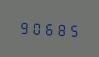eight: (54, 20, 65, 37)
five: (66, 20, 77, 38)
nine: (18, 18, 29, 35)
six: (42, 19, 53, 37)
zero: (30, 19, 41, 36)
